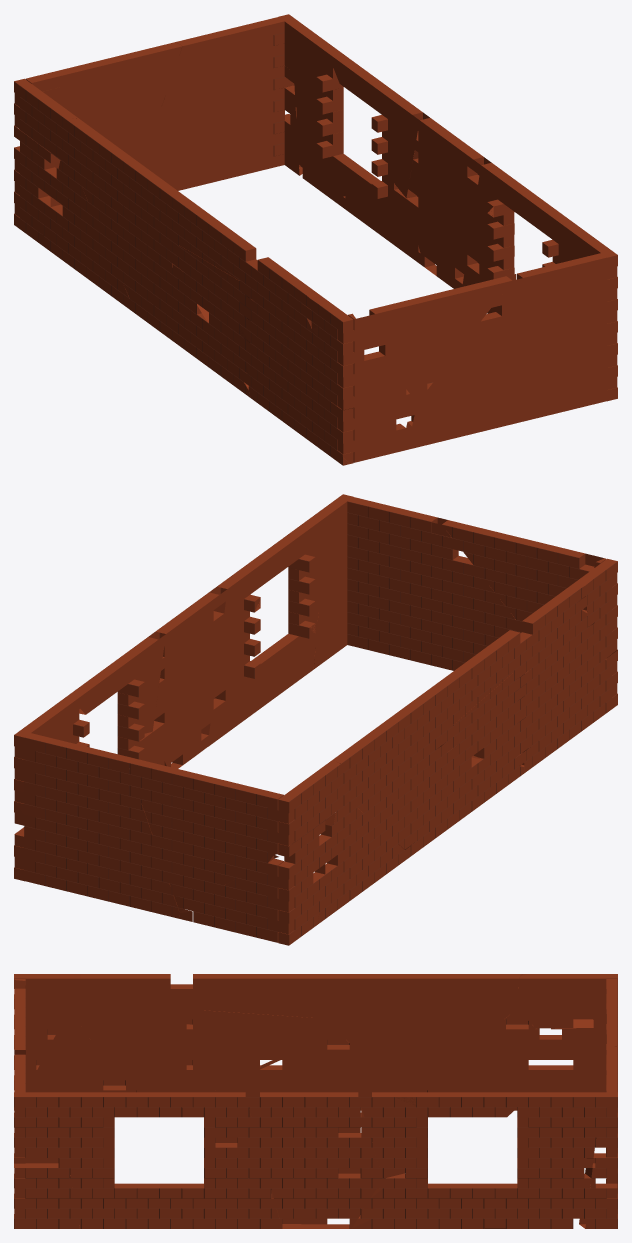
Rendered from brick wall.glb.
3 views of the same model, one above another, from view 1: azimuth 30°, elevation 25°; view 2: azimuth 150°, elevation 25°; view 3: azimuth 270°, elevation 25° (orthographic). The views are drawn at different scales.
Visible parts, largest first — view 1: Cube.008_cell.007, Cube.008_cell.011, Cube.008_cell.010, Cube.008_cell.015, Cube.008_cell.008, Cube.008_cell.006, Cube.008_cell.016, Cube.008_cell.002, Cube.008_cell, Cube.008_cell.009, Cube.008_cell.005, Cube.008_cell.013 (+24 smaller); view 2: Cube.008_cell.007, Cube.008_cell.011, Cube.008_cell.010, Cube.008_cell, Cube.008_cell.015, Cube.008_cell.008, Cube.008_cell.016, Cube.008_cell.002, Cube.008_cell.013, Cube.008_cell.009, Cube.008_cell.005, Cube.008_cell.069 (+25 smaller); view 3: Cube.008_cell, Cube.008_cell.008, Cube.008_cell.015, Cube.008_cell.006, Cube.008_cell.016, Cube.008_cell.013, Cube.008_cell.007, Cube.008_cell.009, Cube.008_cell.019, Cube.008_cell.043, Cube.008_cell.069, Cube.008_cell.005 (+28 smaller).
Boxes of the visible parts, x1,y1,x2,y2 form: Cube.008_cell.007: [406, 229, 617, 449]; Cube.008_cell.011: [136, 17, 302, 190]; Cube.008_cell.010: [14, 42, 189, 180]; Cube.008_cell.015: [38, 96, 178, 300]; Cube.008_cell.008: [400, 112, 490, 288]; Cube.008_cell.006: [258, 14, 355, 204]; Cube.008_cell.016: [239, 259, 318, 420]; Cube.008_cell.002: [369, 276, 511, 408]; Cube.008_cell: [461, 157, 593, 313]; Cube.008_cell.009: [315, 41, 436, 198]; Cube.008_cell.005: [276, 327, 375, 465]; Cube.008_cell.013: [42, 144, 135, 309]; Cube.008_cell.007: [309, 494, 521, 670]; Cube.008_cell.011: [14, 733, 192, 921]; Cube.008_cell.010: [120, 758, 361, 912]; Cube.008_cell: [201, 512, 335, 746]; Cube.008_cell.015: [305, 692, 453, 851]; Cube.008_cell.008: [144, 592, 237, 768]; Cube.008_cell.016: [514, 587, 592, 771]; Cube.008_cell.002: [442, 520, 584, 636]; Cube.008_cell.013: [313, 781, 404, 924]; Cube.008_cell.009: [51, 637, 182, 749]; Cube.008_cell.005: [551, 593, 617, 750]; Cube.008_cell.069: [435, 672, 520, 763]; Cube.008_cell: [47, 1092, 282, 1228]; Cube.008_cell.008: [229, 1092, 394, 1228]; Cube.008_cell.015: [316, 974, 572, 1092]; Cube.008_cell.006: [484, 1083, 617, 1228]; Cube.008_cell.016: [58, 974, 203, 1092]; Cube.008_cell.013: [394, 999, 561, 1110]; Cube.008_cell.007: [14, 1054, 103, 1228]; Cube.008_cell.009: [327, 1092, 550, 1178]; Cube.008_cell.019: [359, 1168, 505, 1228]; Cube.008_cell.043: [237, 1045, 416, 1090]; Cube.008_cell.069: [181, 1009, 349, 1049]; Cube.008_cell.005: [14, 999, 136, 1092].
Bounding box in the file's own units: 3.91 × 1.95 × 8.1.
